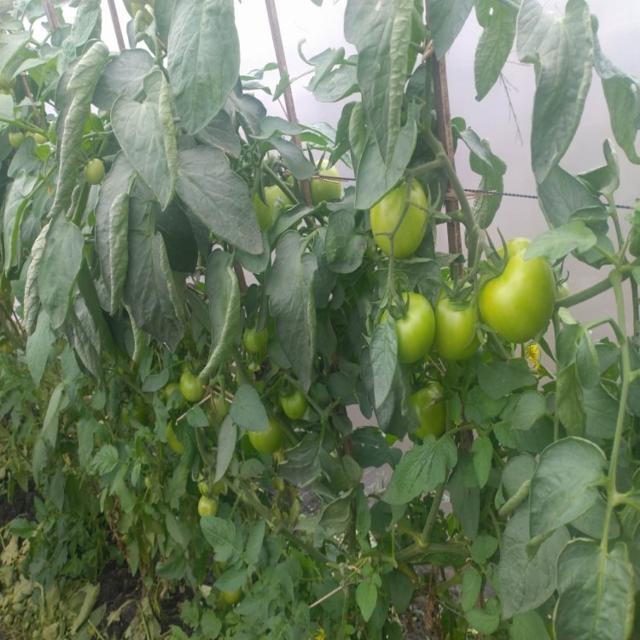tomato: (486, 240, 554, 342), (435, 285, 482, 359), (369, 196, 431, 248), (391, 292, 427, 357), (411, 381, 442, 444), (311, 161, 340, 199), (249, 427, 286, 456), (261, 182, 282, 222), (280, 387, 306, 419), (173, 371, 196, 403), (86, 157, 108, 185), (242, 320, 259, 350), (200, 496, 216, 517)
